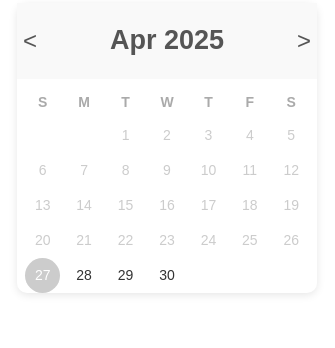
it: Calendar Component › checks February days for the current non-leap year
Click the button "<" at (30, 41), box [17,26,43,56]
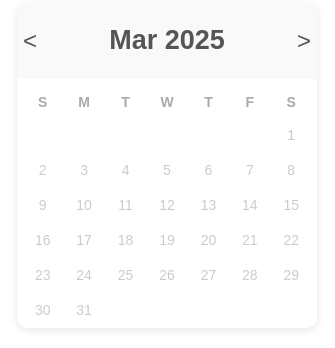
Click the button "<" at (30, 41), box [17,26,43,56]
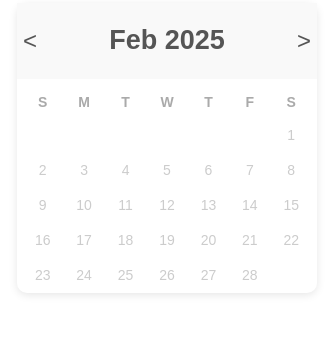
Expected: the text "28" is shown, [242,267,258,283]
Now the text "29" is gone
